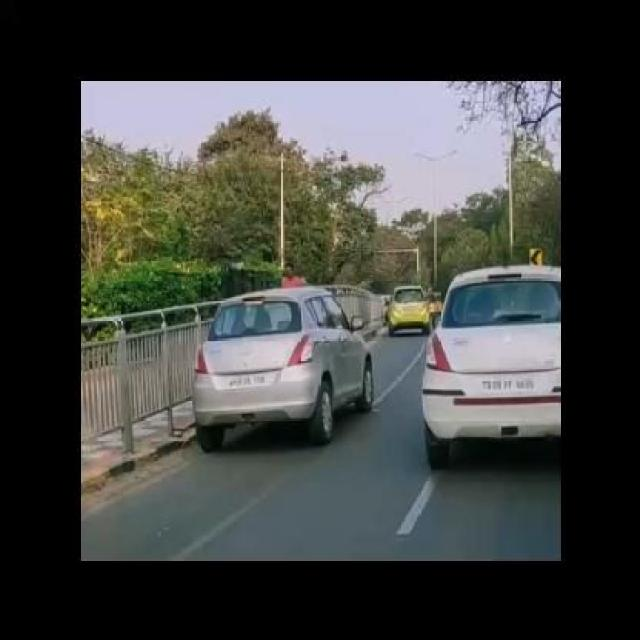car: (194, 288, 377, 454), (420, 266, 558, 468), (383, 285, 442, 340)
